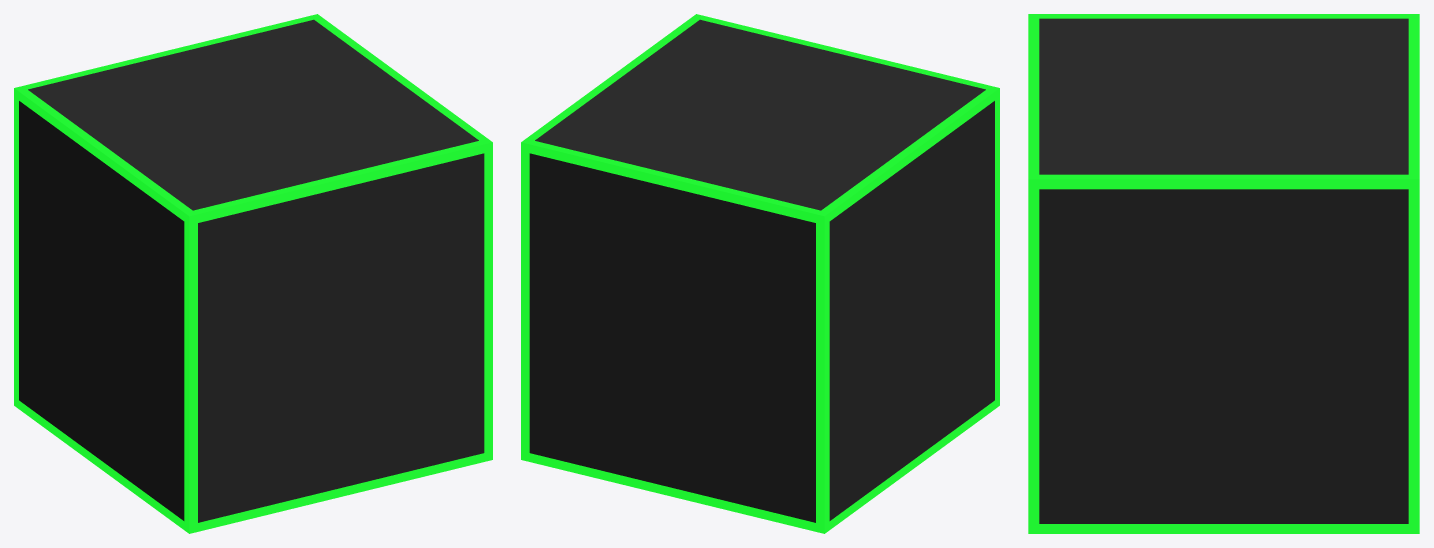
File: GroundGreen.glb
The picture shows the model from 3 angles, left to right: view 1: azimuth 30°, elevation 25°; view 2: azimuth 150°, elevation 25°; view 3: azimuth 270°, elevation 25°; orthographic projection. The views are drawn at different scales.
Visible parts, largest first — view 1: Green; view 2: Green; view 3: Green.
Part boxes in pixels (x1,y1,x2,y2): Green: (14,14,492,533); Green: (521,14,999,533); Green: (1028,14,1419,533).
Size of the model in its own units: 2 by 2 by 2.
